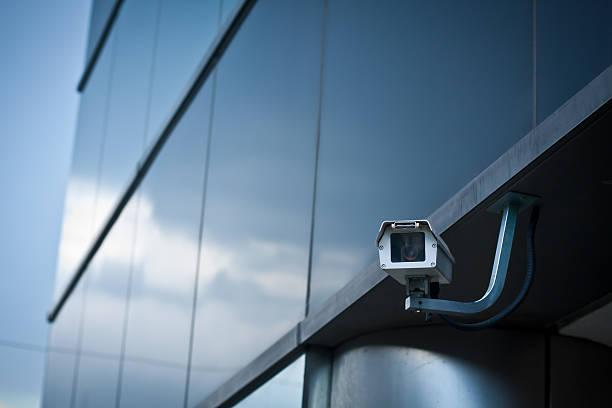camera: (365, 205, 463, 323)
